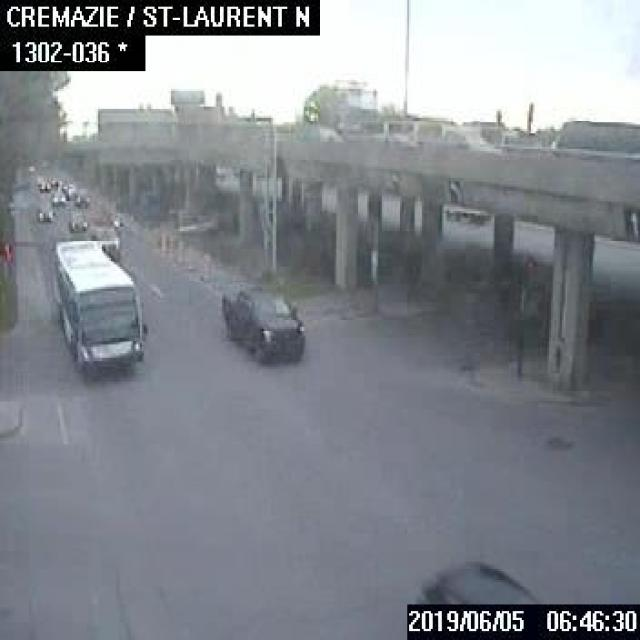bus: (50, 235, 144, 374)
construction: (201, 252, 211, 281), (159, 232, 165, 254)
vehicle: (218, 282, 305, 360), (413, 556, 536, 602), (89, 222, 118, 255), (69, 210, 88, 230), (35, 200, 53, 220), (74, 187, 89, 206), (51, 188, 66, 204), (61, 180, 76, 195), (38, 178, 48, 190)
